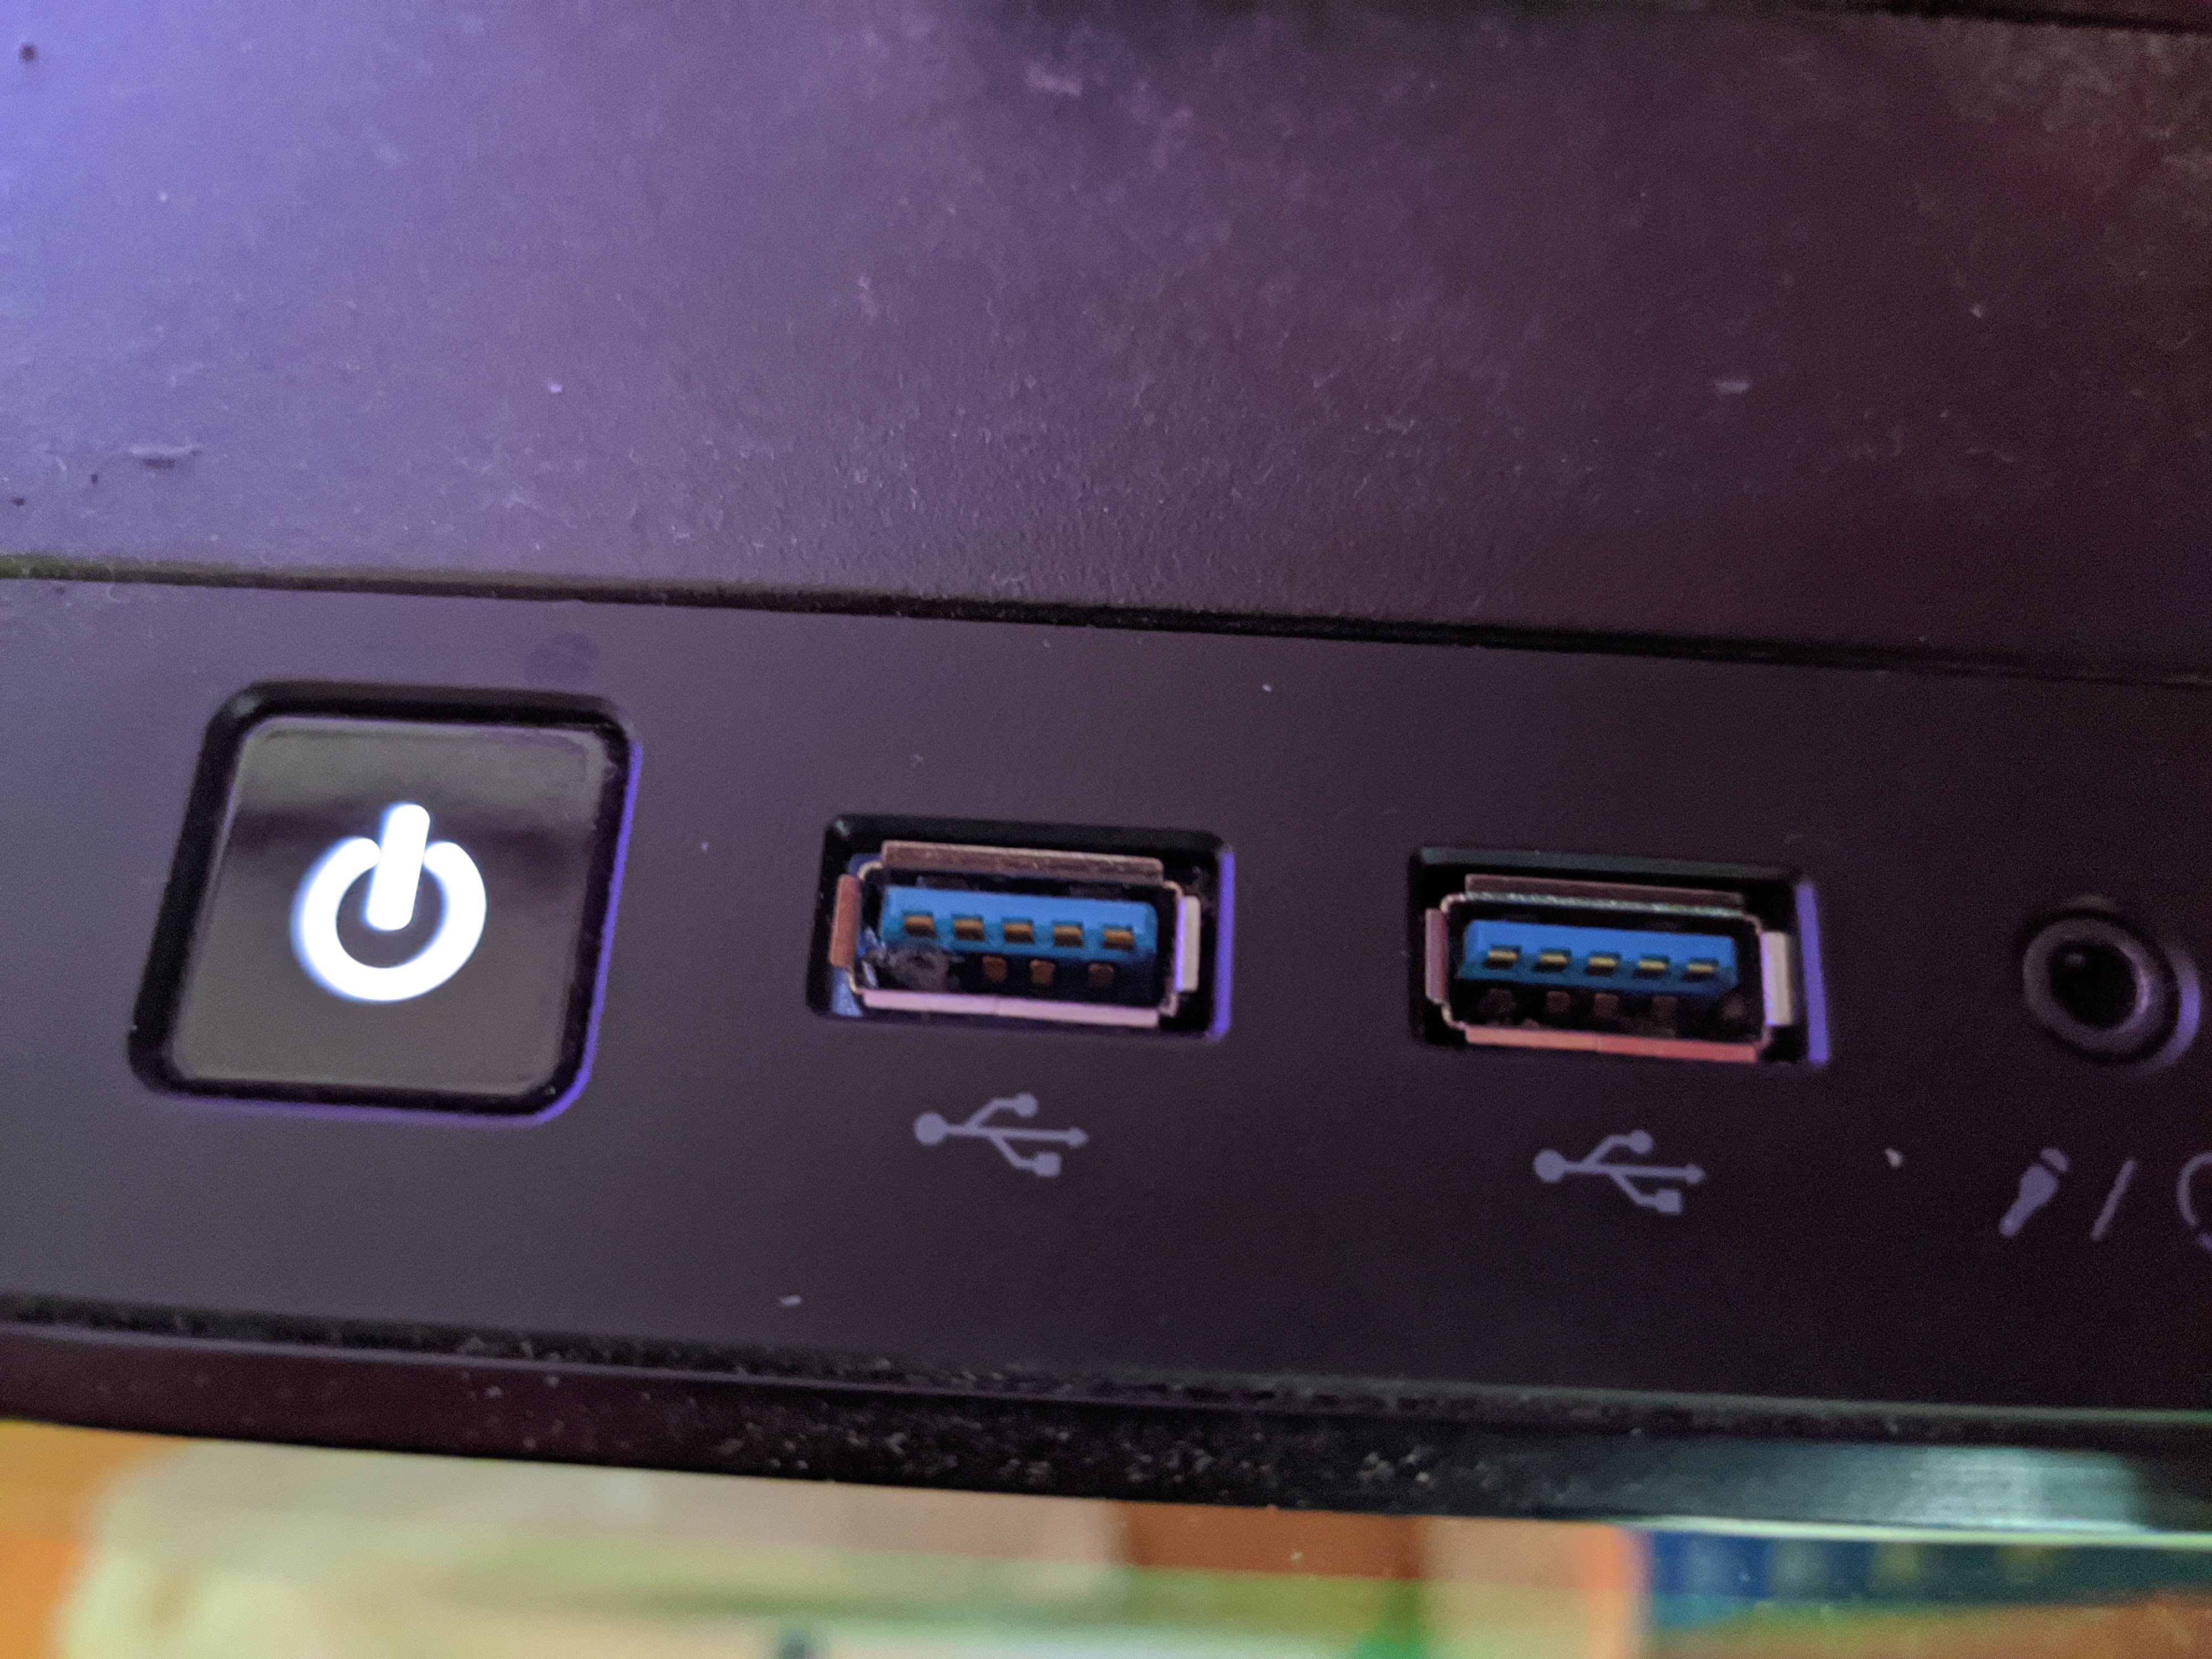usbport_in: (1416, 854, 1797, 1079), (831, 826, 1191, 1040)
